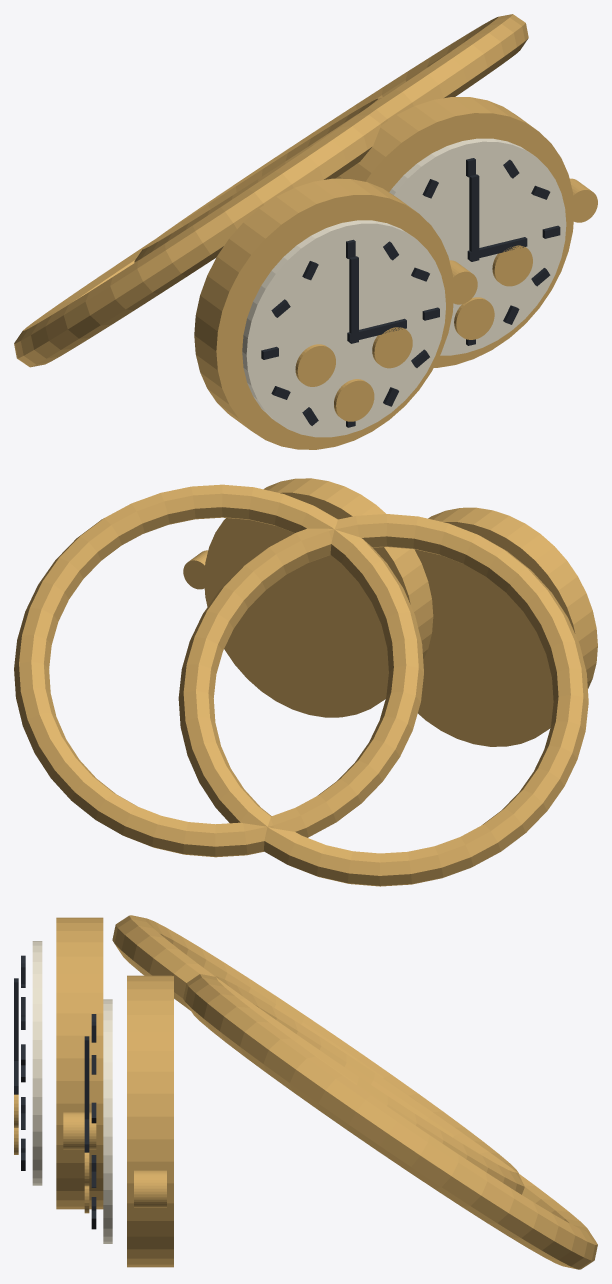
File: watch-gold.glb
3 renders of one model, top to bottom at view 1: azimuth 30°, elevation 25°; view 2: azimuth 150°, elevation 25°; view 3: azimuth 270°, elevation 25°, orthographic. The views are drawn at different scales.
Visible parts, largest first — view 1: Dial.001, Case.001, Wrist band.001, Dial, Case, Wrist band, Chronograph.005, Chronograph.003, Chronograph.002, Chronograph.004, Chronograph.001, Minute hand (+5 smaller); view 2: Wrist band.001, Wrist band, Case, Case.001, Crown; view 3: Wrist band, Case, Case.001, Wrist band.001, Dial.001, Dial, Crown, Crown.001, Minute hand.
Boxes of the visible parts, x1,y1,x2,y2 form: Dial.001: [242, 220, 445, 437]; Case.001: [194, 178, 454, 449]; Wrist band.001: [14, 98, 387, 367]; Dial: [389, 138, 566, 355]; Case: [335, 97, 574, 367]; Wrist band: [134, 14, 528, 262]; Chronograph.005: [334, 379, 374, 421]; Chronograph.003: [295, 344, 335, 386]; Chronograph.002: [454, 297, 494, 339]; Chronograph.004: [372, 327, 412, 368]; Chronograph.001: [492, 245, 532, 286]; Minute hand: [469, 174, 479, 261]; Wrist band.001: [178, 514, 588, 886]; Wrist band: [14, 484, 423, 857]; Case: [204, 478, 433, 717]; Case.001: [414, 507, 597, 746]; Crown: [183, 550, 208, 589]; Wrist band: [183, 974, 597, 1269]; Case: [127, 975, 173, 1267]; Case.001: [56, 917, 103, 1209]; Wrist band.001: [112, 915, 524, 1194]; Dial.001: [32, 941, 42, 1185]; Dial: [103, 999, 112, 1243]; Crown: [134, 1170, 166, 1207]; Crown.001: [63, 1112, 96, 1149]; Minute hand: [84, 1036, 89, 1119].
Bounding box in the file's own units: 0.1397 × 0.0755 × 0.1241.
